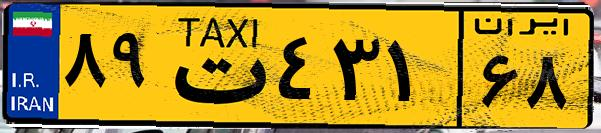1: (385, 28, 445, 110)
3: (330, 28, 385, 110)
4: (270, 28, 330, 110)
6: (475, 38, 525, 113)
8: (57, 26, 110, 100), (525, 38, 570, 115)
9: (110, 28, 158, 98)
ت: (158, 12, 270, 120)
